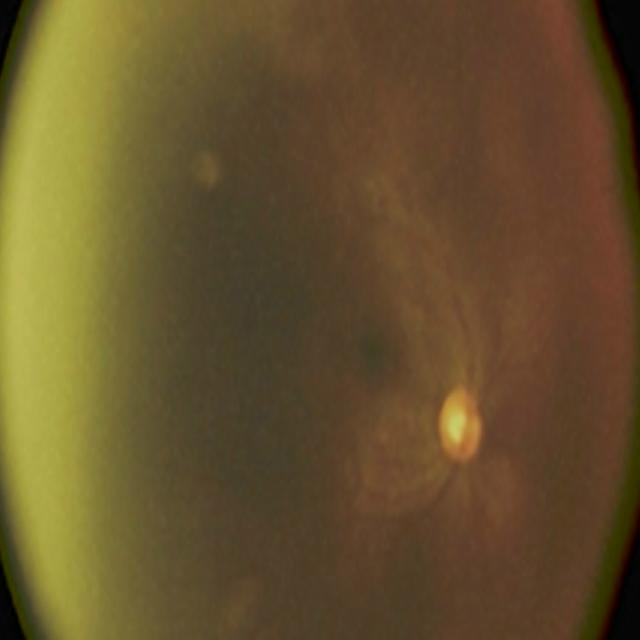optic-nerve: (424, 356, 507, 502)
